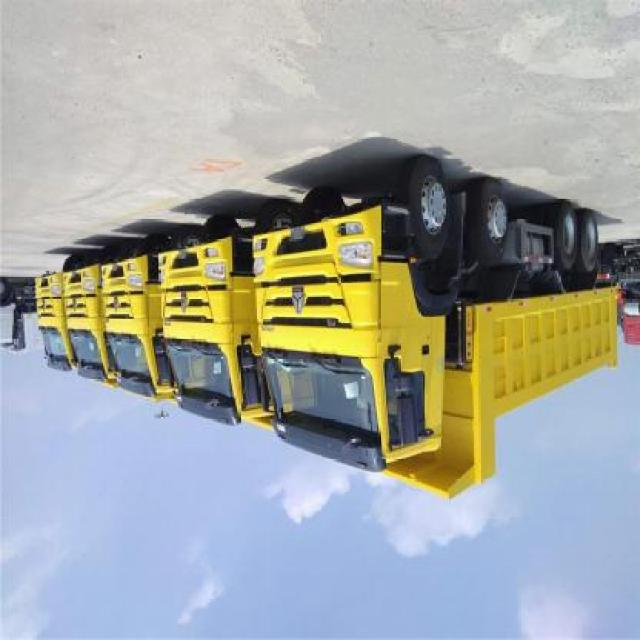truck: (256, 163, 620, 503), (151, 206, 274, 438), (103, 249, 171, 412), (60, 260, 109, 391), (31, 265, 73, 385)
